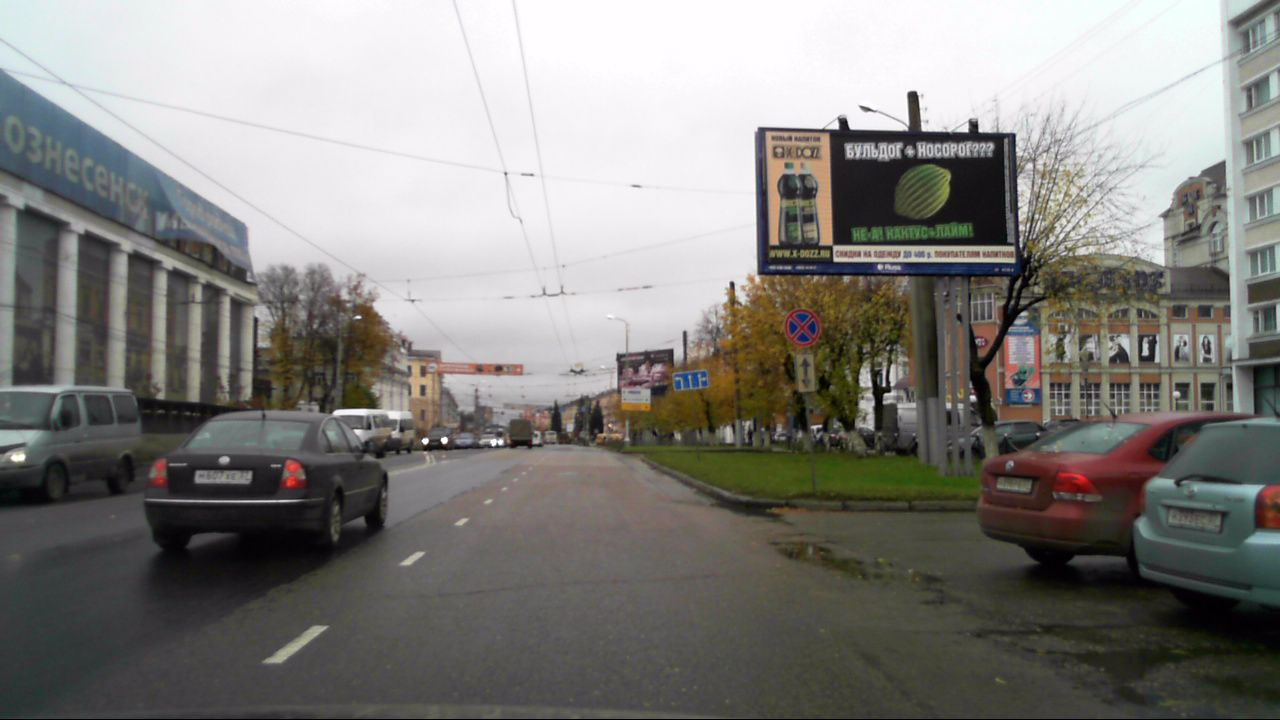No Parking: (784, 308, 820, 347)
